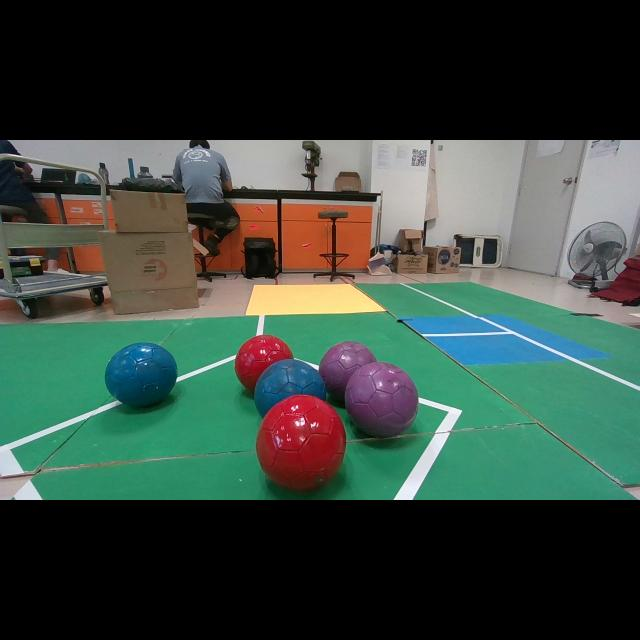B: (105, 342, 178, 408), (254, 359, 326, 416)
P: (345, 362, 419, 436), (319, 341, 376, 401)
R: (256, 395, 346, 491), (235, 336, 294, 392)
